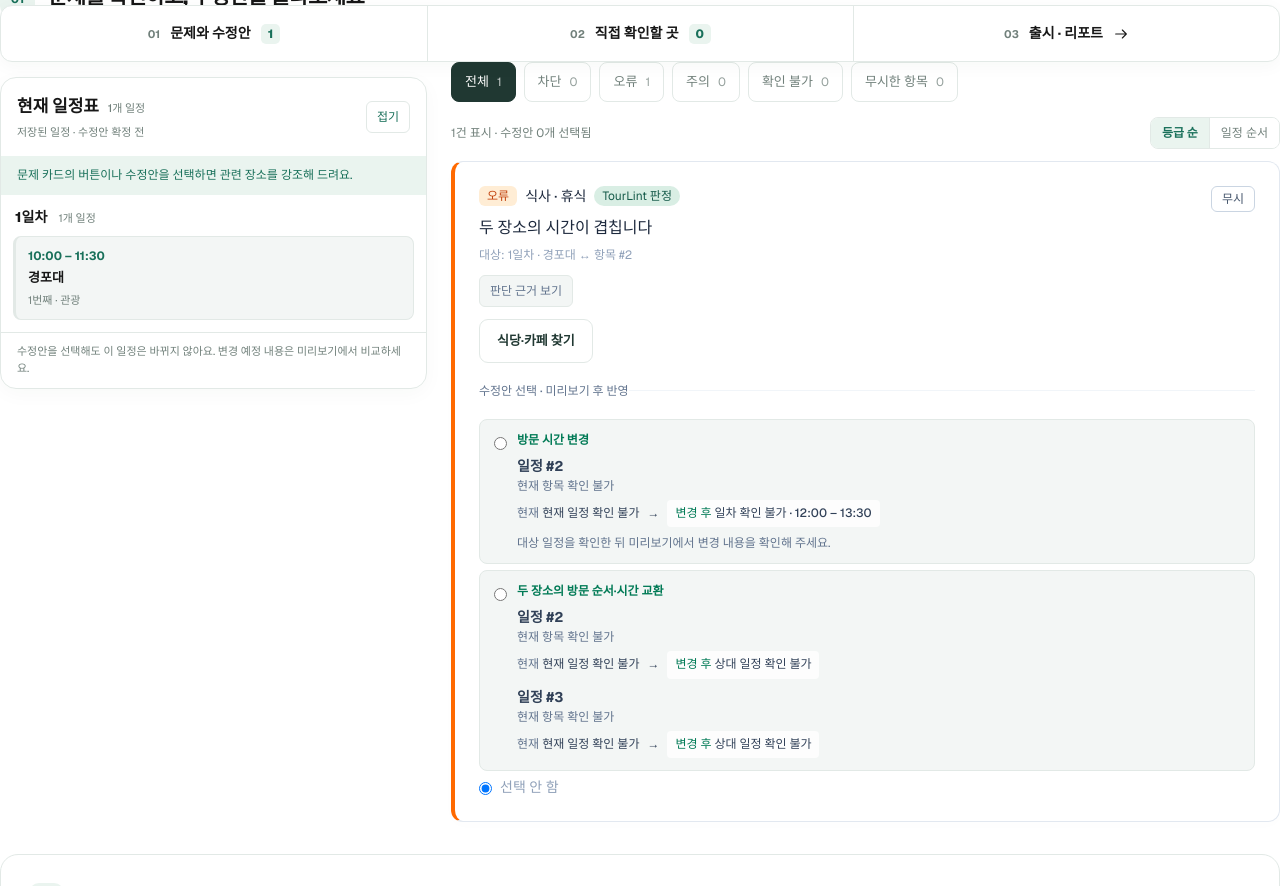
it: 검수에서 장소 추가 → 현재 일정 갱신 → 기존 수정안·출시 보류 → 재검수로 이어진다
(page scrolled)
Click the 1st radio button: (500,443) x1=494 y1=437 x2=507 y2=450
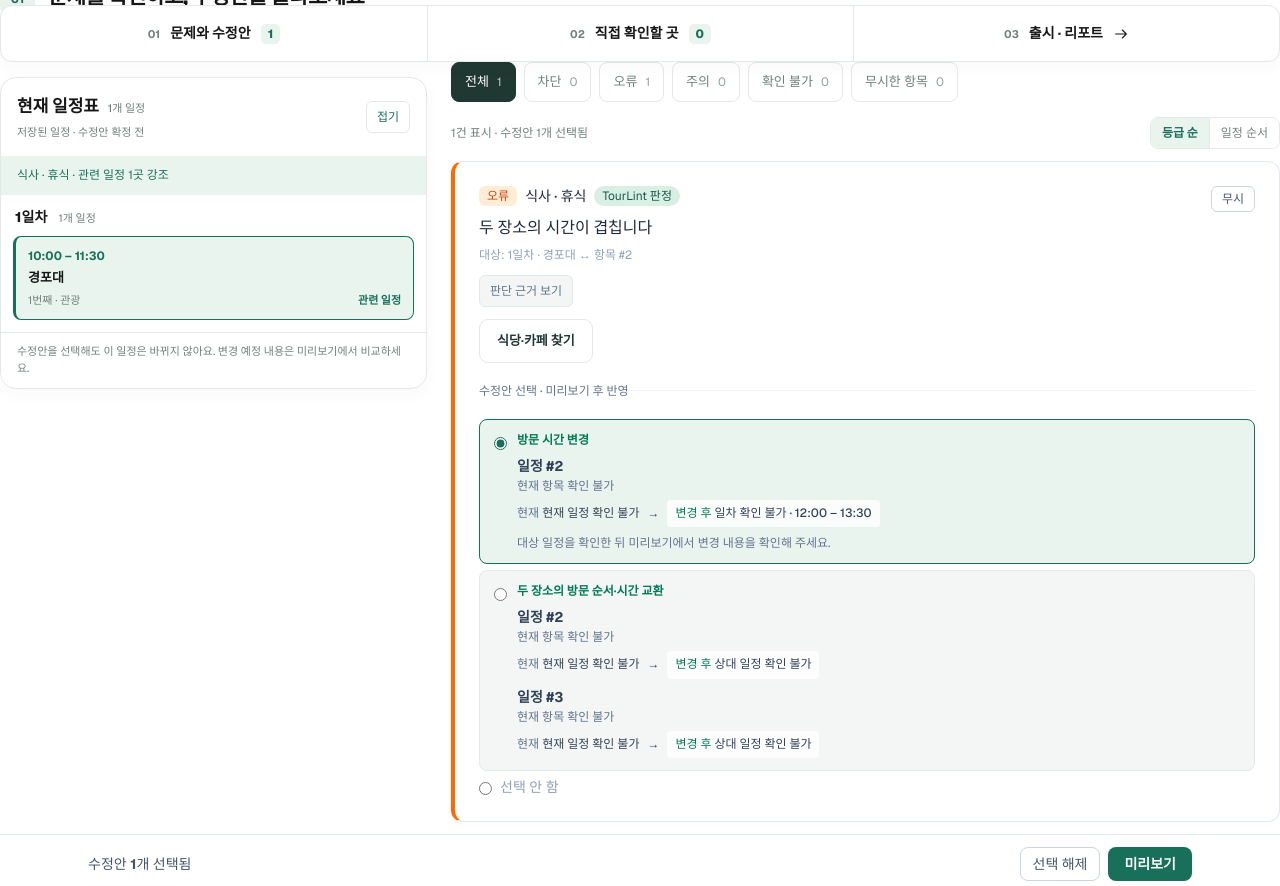
Click the button "식당·카페 찾기": (536,341) x1=479 y1=319 x2=593 y2=363
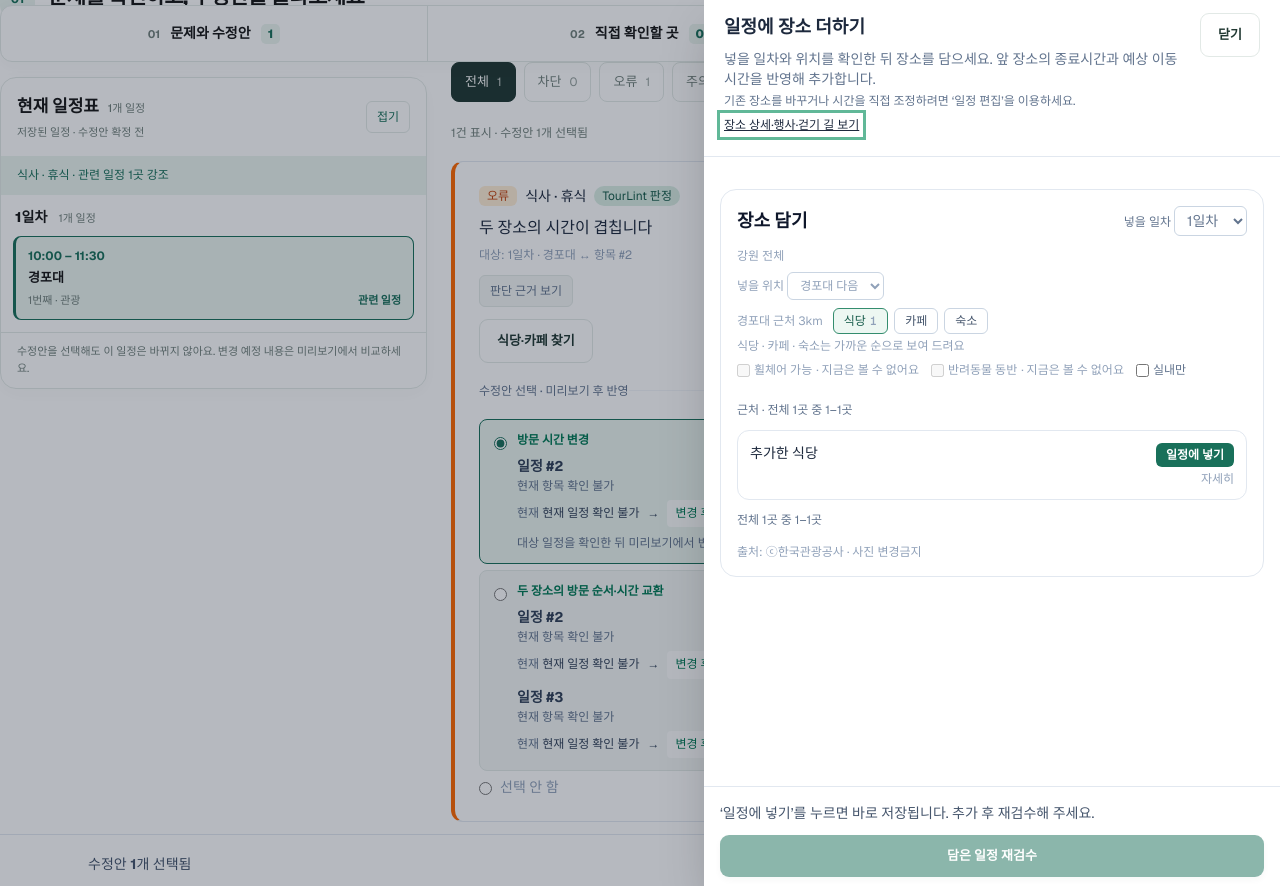
expect the button "일정에 넣기" is shown: met
Click the button "일정에 넣기": (1195,455) x1=1156 y1=443 x2=1234 y2=467
(page scrolled)
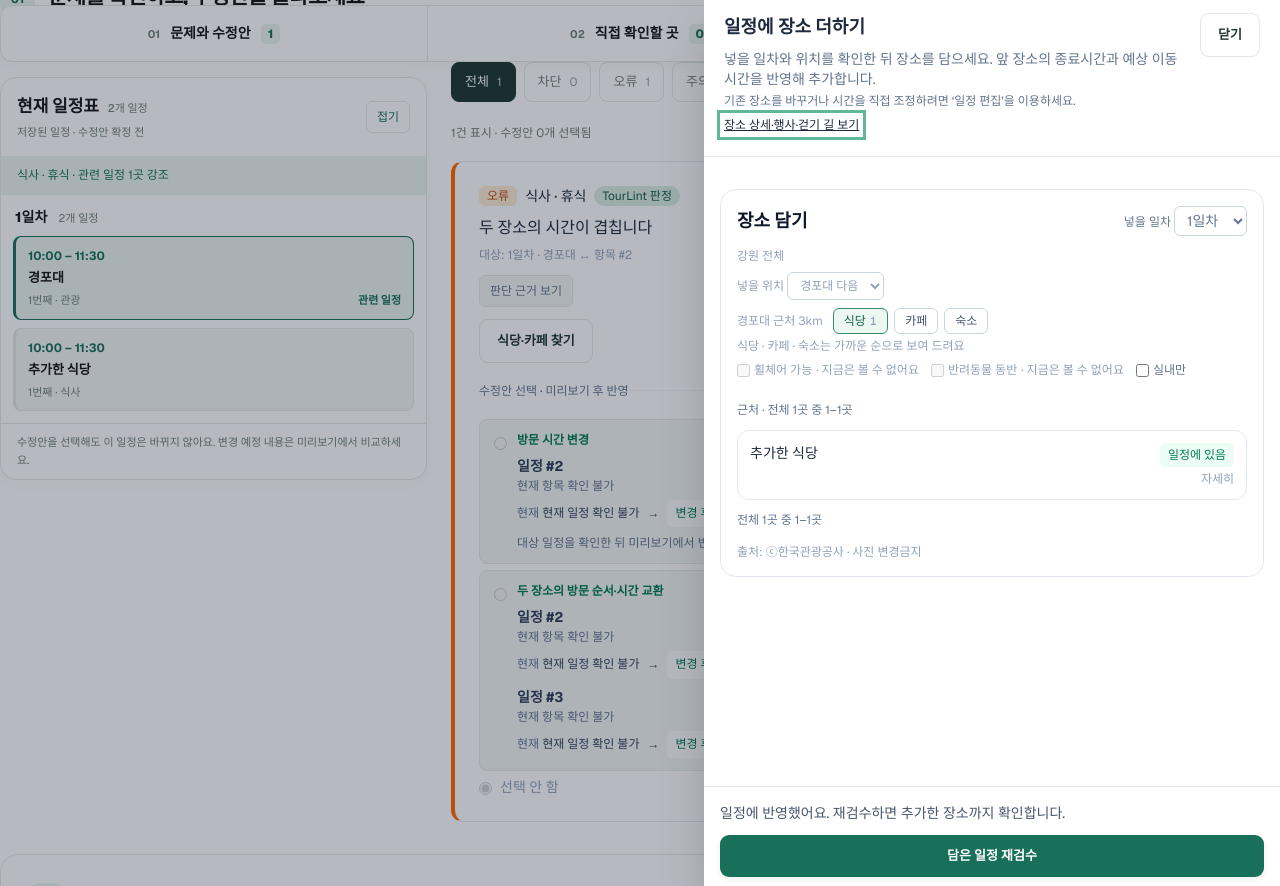
expect the button "닫기" is shown: met
Click the button "닫기": (1230,35) x1=1200 y1=13 x2=1260 y2=57
(page scrolled)
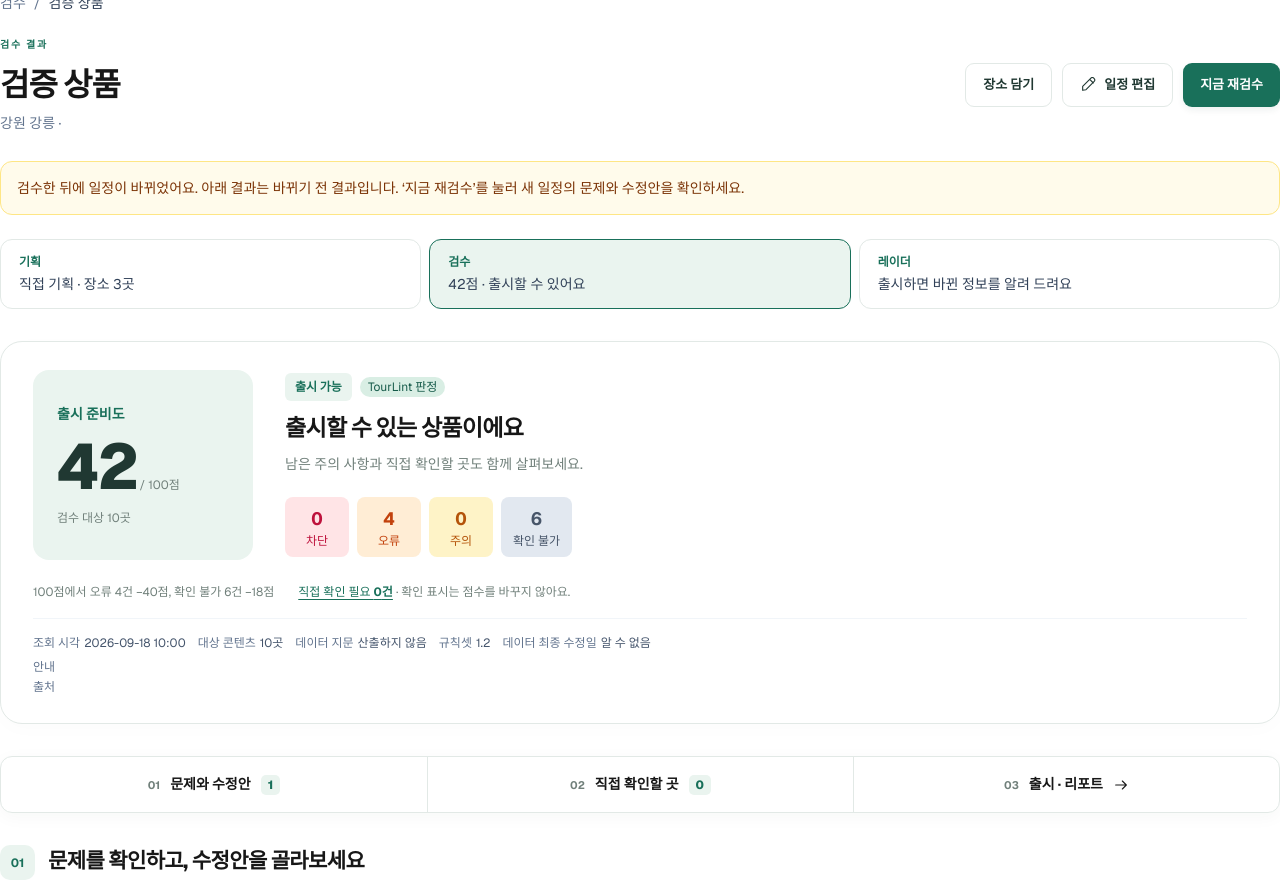
expect the text "아래 결과는 바뀌기 전 결과" is shown: met, box x1=17 y1=179 x2=744 y2=197
Click the button "지금 재검수": (1232,85) x1=1183 y1=63 x2=1279 y2=107
(page scrolled)
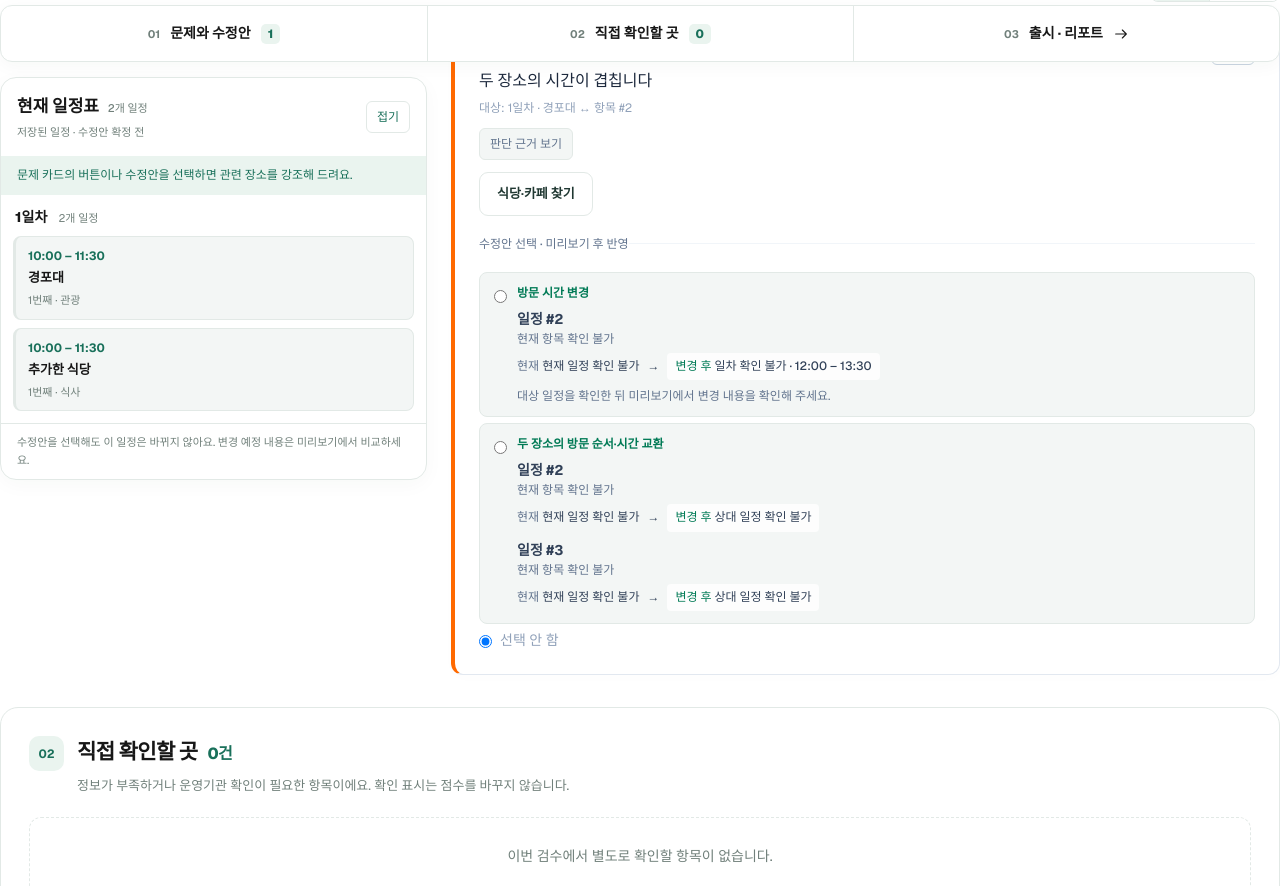
expect the text "아래 결과는 바뀌기 전 결과" is gone: met
expect the element that starts with "수정안 선택 · 미리보기 후 반영" is enabled: met, box x1=479 y1=236 x2=1255 y2=650
